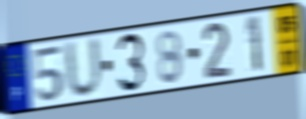1: (245, 13, 264, 76)
2: (201, 20, 234, 82)
3: (112, 31, 148, 94)
5: (32, 43, 65, 104)
8: (155, 28, 183, 86)
U: (62, 34, 105, 101)
